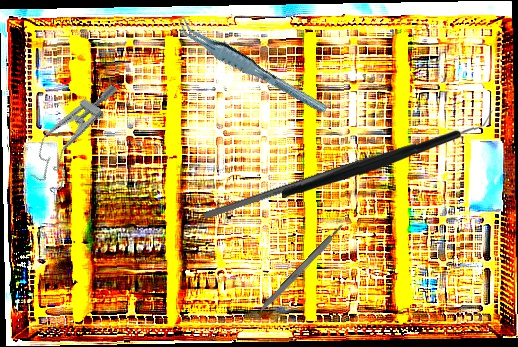Chopper: (282, 106, 493, 202)
Pusher: (202, 139, 418, 221)
Scalpel Handle: (255, 223, 347, 317)
Speculum: (21, 69, 125, 196)
Tissue Forceps: (172, 2, 330, 131)
